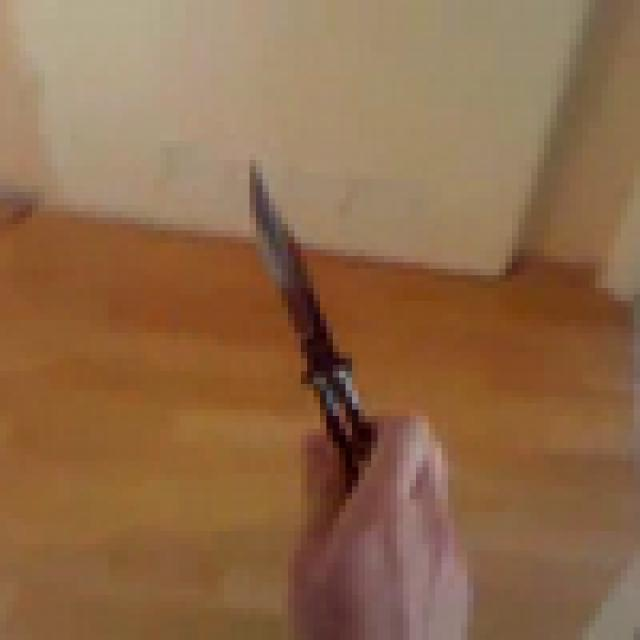knife: (205, 128, 442, 563)
